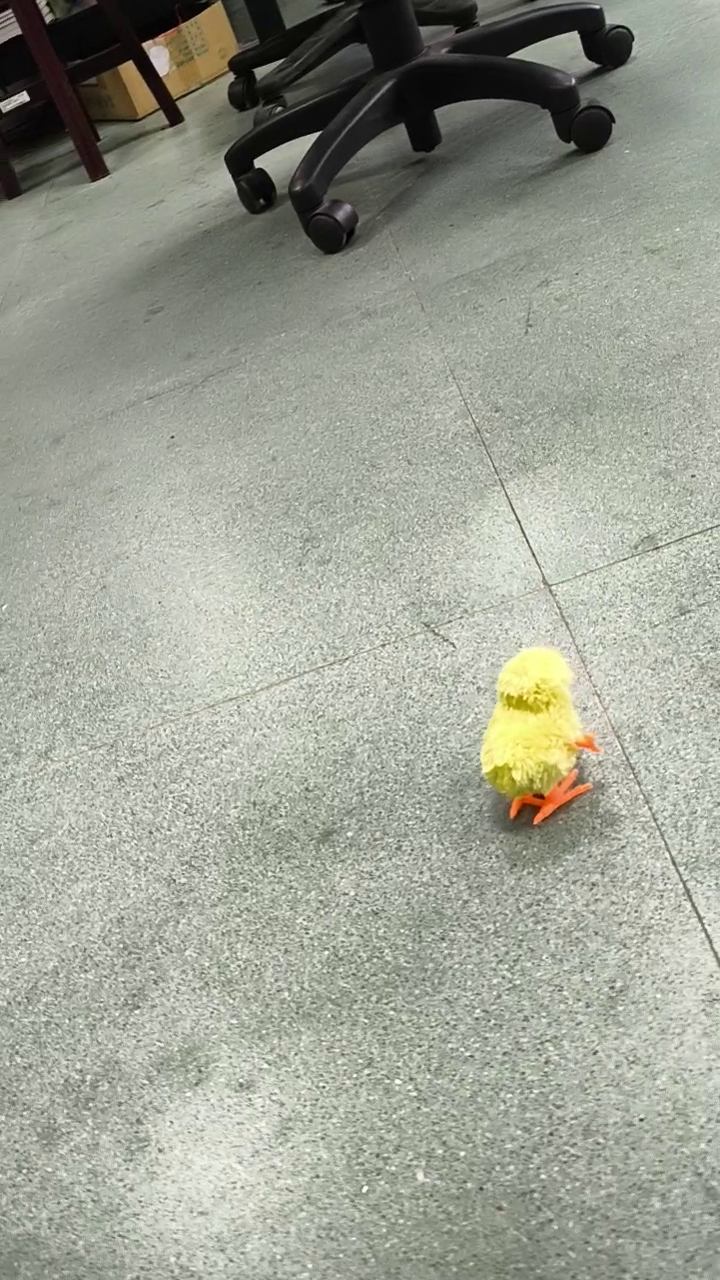yellow chicken: (478, 641, 601, 830)
